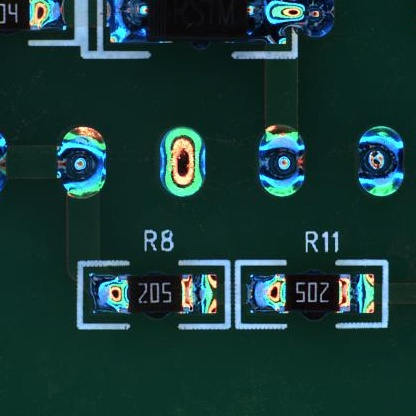spot: (258, 122, 309, 198), (57, 125, 106, 201), (357, 125, 405, 198), (160, 125, 208, 197)
